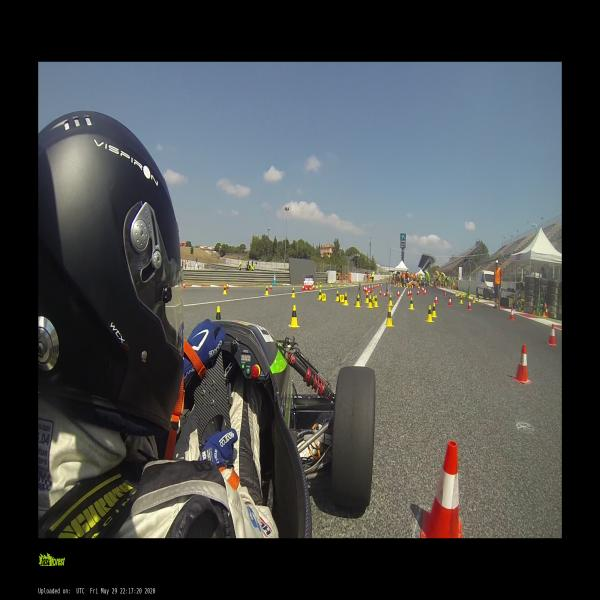orange_cone: (420, 441, 462, 538), (512, 344, 532, 384), (547, 324, 557, 345), (509, 308, 515, 321), (467, 300, 472, 310), (447, 297, 452, 306), (434, 296, 438, 305), (545, 306, 548, 318), (301, 284, 305, 292), (396, 290, 400, 297), (383, 291, 388, 296), (423, 290, 427, 296), (269, 284, 273, 290), (226, 283, 229, 290), (379, 289, 382, 296), (409, 289, 412, 296), (407, 290, 410, 296), (183, 282, 185, 289), (417, 290, 419, 296), (444, 292, 446, 298), (312, 285, 314, 290)
unknown_cone: (273, 273, 276, 286)
yellow_cone: (288, 304, 300, 328), (385, 307, 393, 327), (425, 305, 434, 322), (431, 303, 437, 318), (342, 292, 348, 306), (408, 297, 414, 310), (334, 290, 340, 302), (355, 295, 361, 307), (367, 296, 373, 308), (388, 294, 393, 306), (216, 306, 220, 320), (317, 289, 322, 300), (364, 292, 369, 303), (291, 288, 296, 298), (374, 295, 378, 307), (264, 286, 269, 295), (532, 305, 537, 314), (518, 302, 522, 312), (222, 285, 226, 294), (339, 294, 344, 301), (459, 296, 463, 304), (321, 294, 326, 300), (468, 291, 471, 298), (473, 297, 476, 303), (319, 282, 322, 287), (478, 296, 480, 303), (316, 282, 318, 288), (343, 282, 346, 286), (330, 282, 332, 287), (457, 291, 459, 296), (455, 292, 457, 296), (338, 282, 339, 286)
